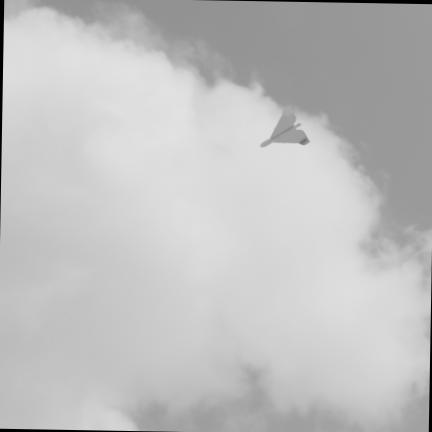Shahed: (260, 105, 308, 146)
